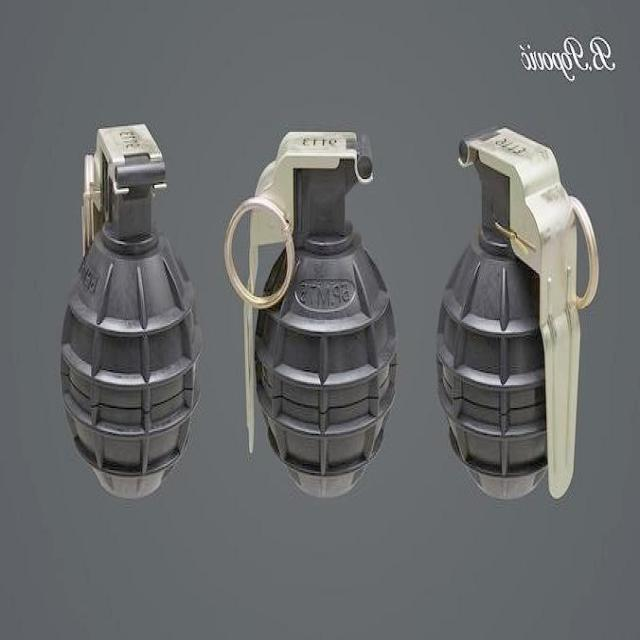grenade: (226, 132, 398, 501), (438, 129, 600, 502), (62, 124, 203, 501)
